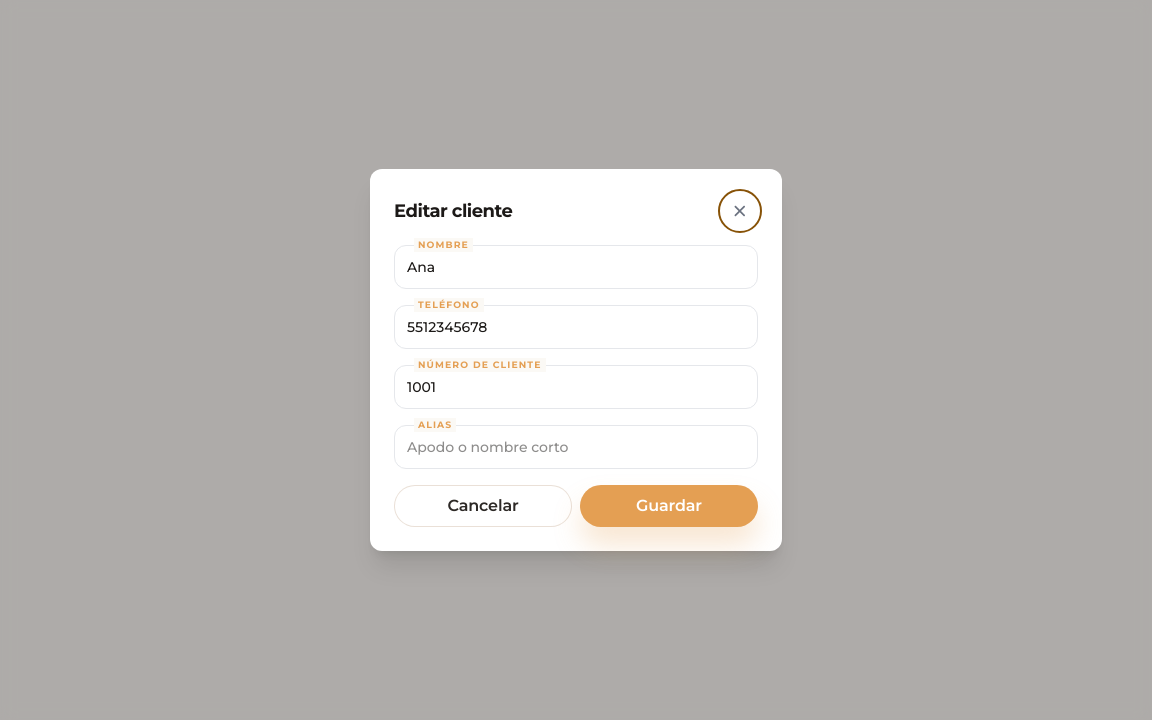
EditClientModal › validates client number before submit
Type "0" into the field labelled "Número de cliente" at {"x": 576, "y": 387}, box left=394, top=365, right=758, bottom=409
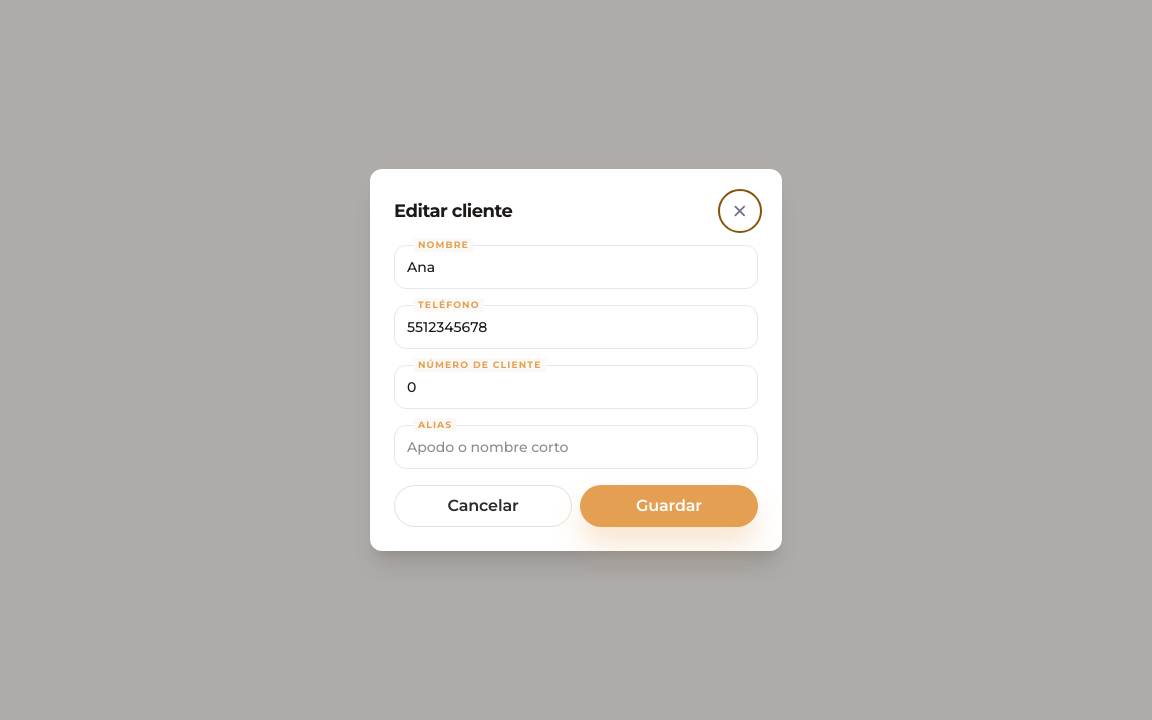
Click the button "Guardar" at {"x": 669, "y": 506}, box left=580, top=485, right=758, bottom=527
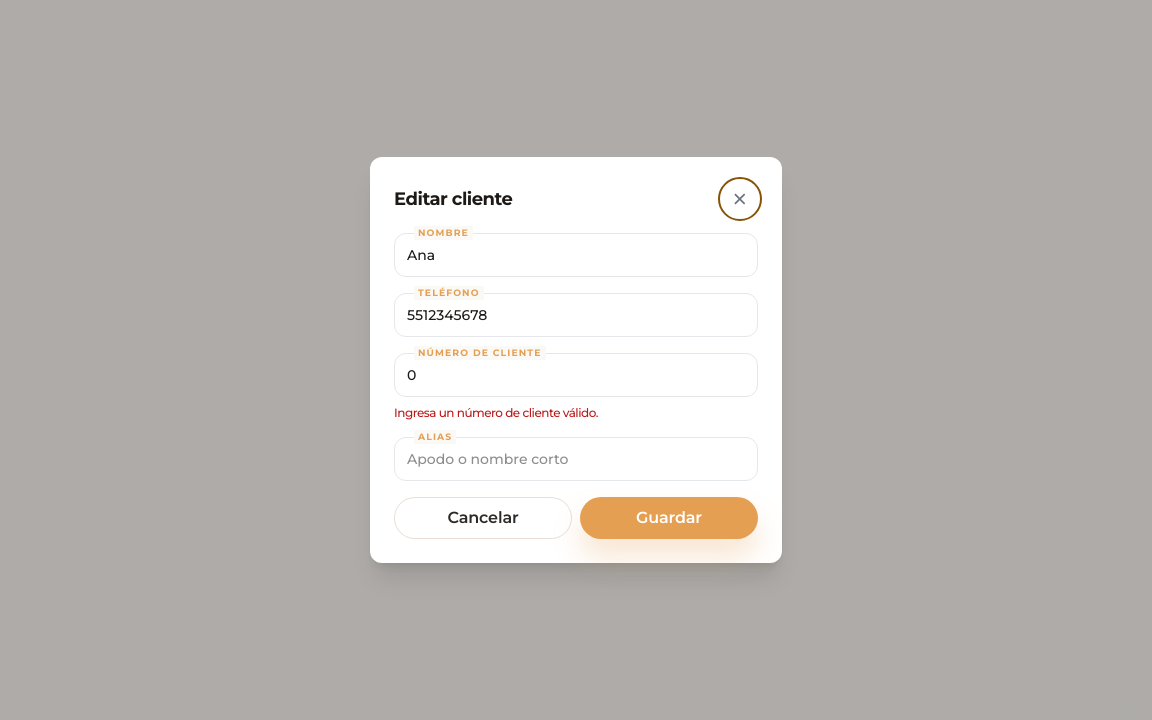
expect the text "Ingresa un número de cliente válido." is shown: met, box left=394, top=405, right=598, bottom=420
